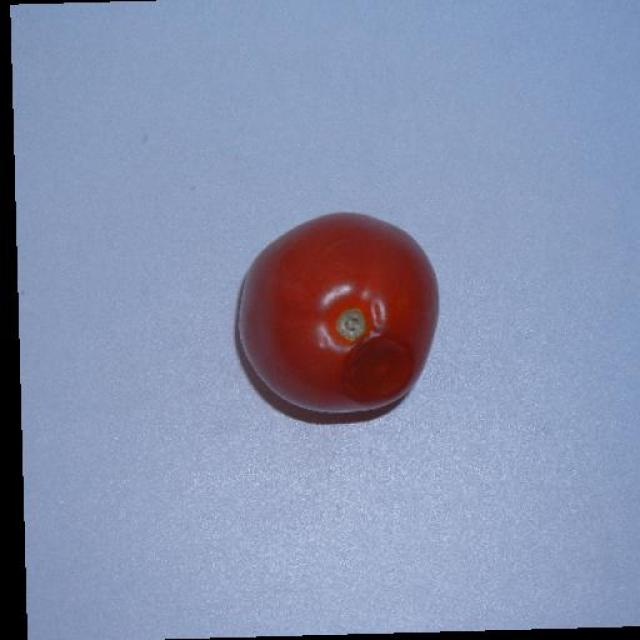Stale_tomato: (227, 206, 442, 434)
